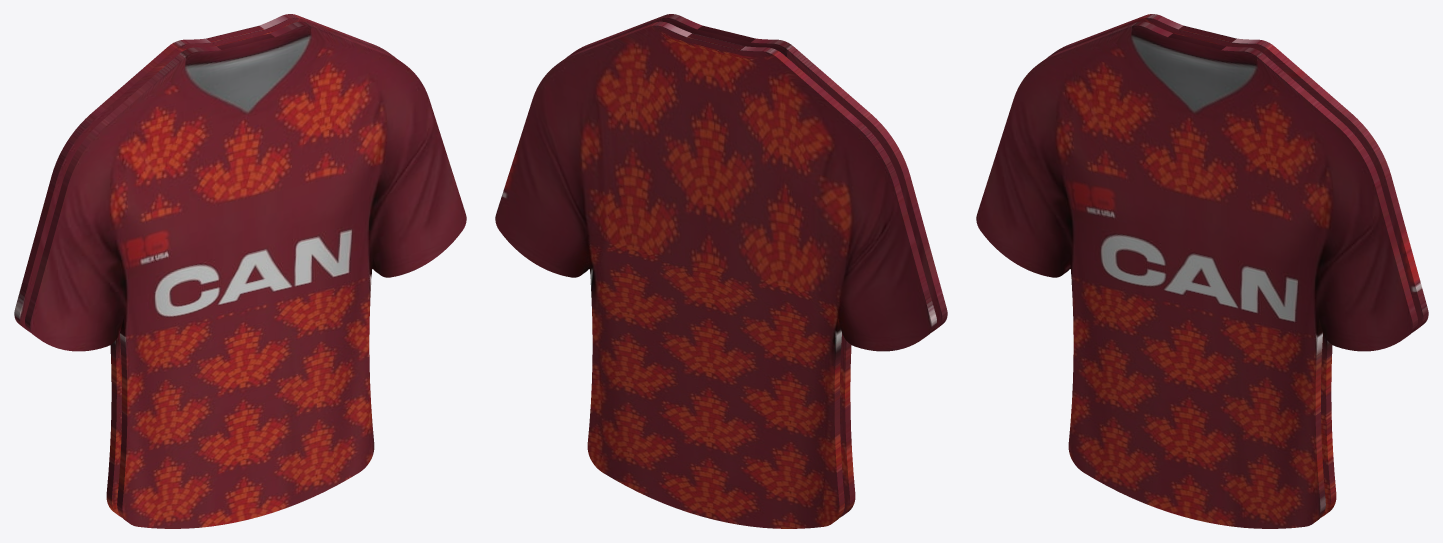
File: asset16.glb
3 views of the same model, side by side, from view 1: azimuth 30°, elevation 25°; view 2: azimuth 150°, elevation 25°; view 3: azimuth 330°, elevation 25° (orthographic).
Visible parts, largest first — view 1: front.001, back; view 2: back, front.001; view 3: front.001, back.
Part boxes in pixels (x1,y1,x2,y2): front.001: (25,21,466,528); back: (14,14,394,517); back: (495,21,936,528); front.001: (567,14,947,517); front.001: (976,21,1417,528); back: (1048,14,1428,517).
Bounding box in the file's own units: 57.21 × 60.2 × 3.6.
2 materials, 2 textured.
